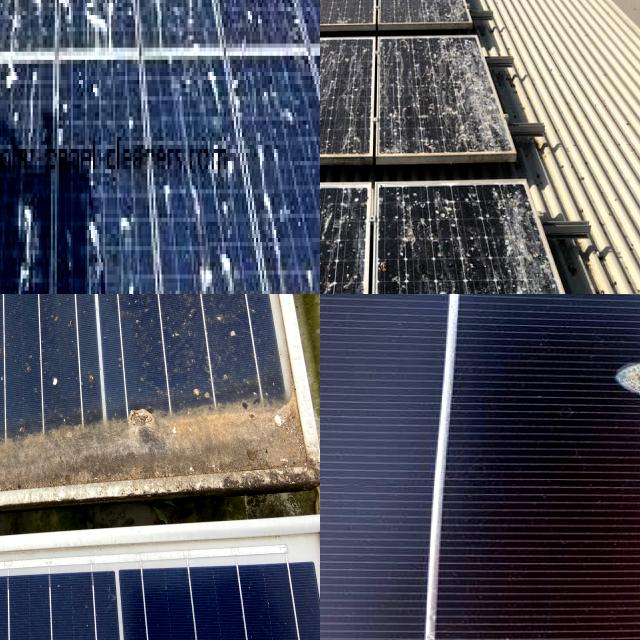bird: (100, 322, 180, 430), (6, 350, 70, 446), (450, 216, 519, 294), (135, 524, 180, 635), (320, 195, 369, 284), (320, 186, 380, 250), (139, 0, 197, 53), (191, 233, 241, 294), (191, 36, 227, 120), (0, 52, 37, 133), (0, 294, 45, 359), (437, 42, 484, 104), (0, 124, 24, 238), (209, 0, 261, 51), (160, 176, 210, 224), (0, 0, 48, 48), (13, 294, 67, 335), (80, 204, 106, 286), (73, 0, 121, 42), (394, 99, 444, 139), (248, 142, 302, 179), (125, 0, 178, 36), (350, 41, 367, 153), (0, 418, 27, 479), (283, 0, 320, 43), (97, 294, 147, 325), (199, 0, 243, 29), (0, 96, 12, 200), (115, 207, 140, 255), (0, 228, 18, 294), (0, 0, 22, 48), (294, 247, 320, 287), (0, 0, 23, 45), (0, 0, 23, 39), (0, 0, 21, 40), (52, 294, 109, 303), (0, 294, 20, 313)
shadow: (320, 294, 490, 364), (585, 354, 640, 411)
